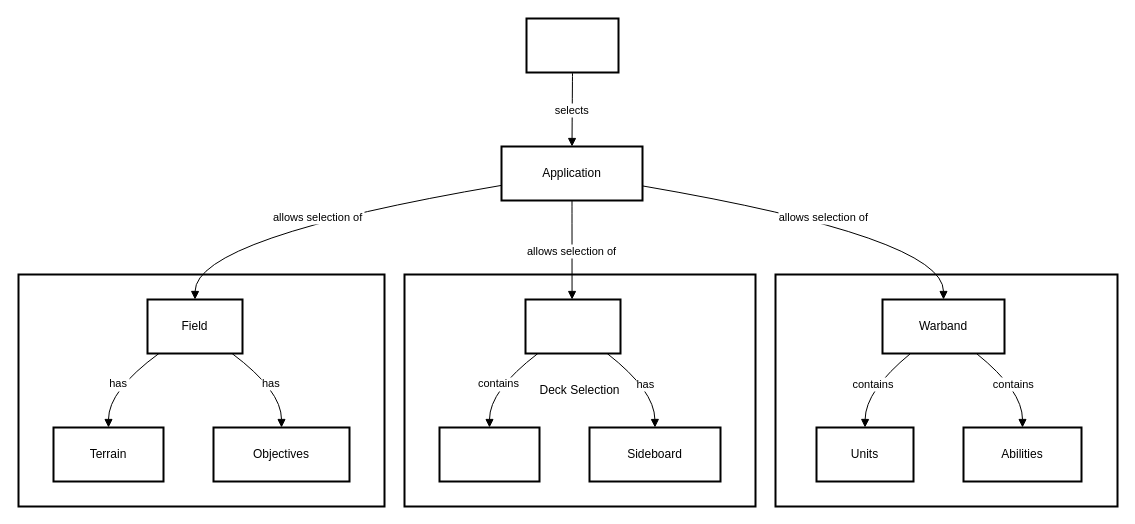
Some shapes in this 1135 by 524 pixel diagram are drawn without their labels. The box of each missing label's shape, as (x1, y1, x2, y2) in pixels:
Cards: (438, 426, 540, 482)
Deck: (524, 298, 621, 354)
Field Selection: (17, 273, 385, 507)
User: (525, 17, 619, 73)
Warband Selection: (774, 273, 1118, 507)
